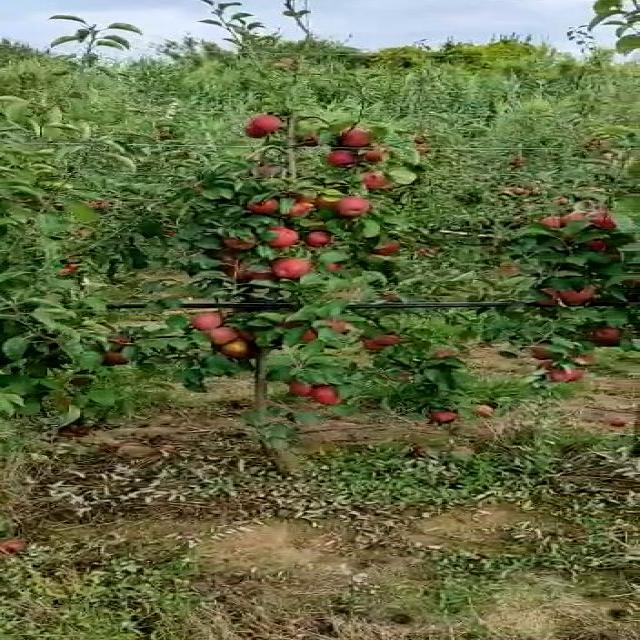100-_ripeness: (262, 224, 298, 247), (360, 334, 400, 353), (274, 257, 311, 277), (336, 127, 373, 146), (249, 114, 284, 134), (242, 195, 278, 214), (373, 235, 402, 258), (544, 365, 578, 384), (582, 210, 616, 229), (311, 387, 347, 404), (186, 312, 223, 328), (338, 198, 369, 217), (560, 288, 591, 306), (589, 330, 626, 345), (365, 169, 391, 190), (286, 379, 316, 397), (556, 209, 589, 225), (325, 151, 360, 166), (209, 326, 238, 344), (532, 345, 564, 360), (287, 202, 313, 219), (220, 344, 249, 359), (304, 231, 331, 247), (362, 148, 387, 164), (538, 291, 560, 307), (294, 327, 316, 341)
